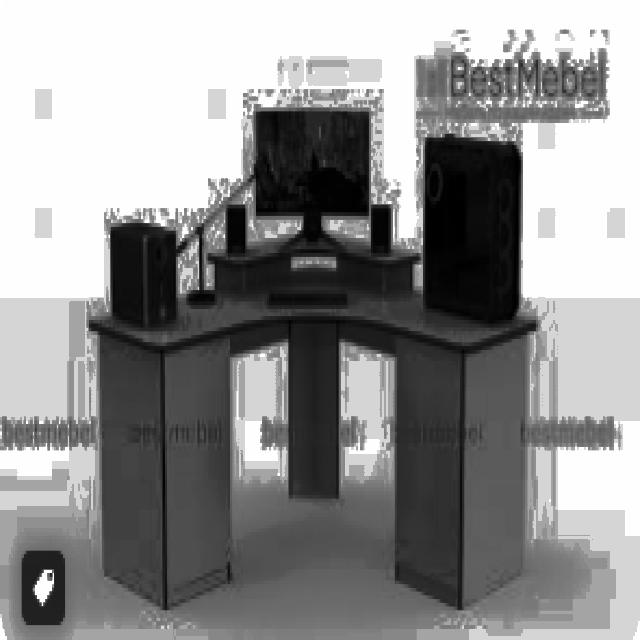table: (87, 231, 536, 610)
